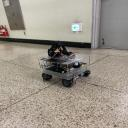cart: (38, 55, 92, 87)
